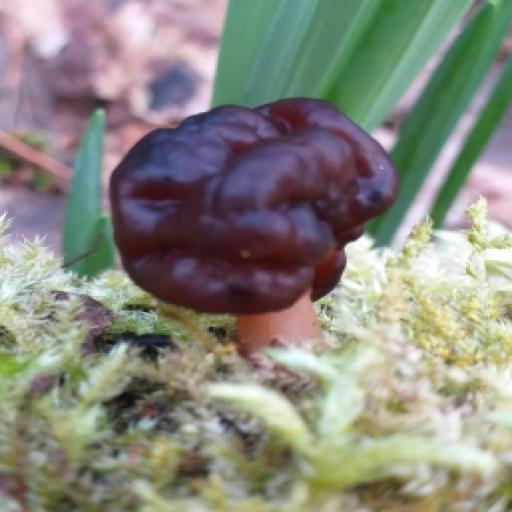False Morel: (83, 38, 404, 362)
